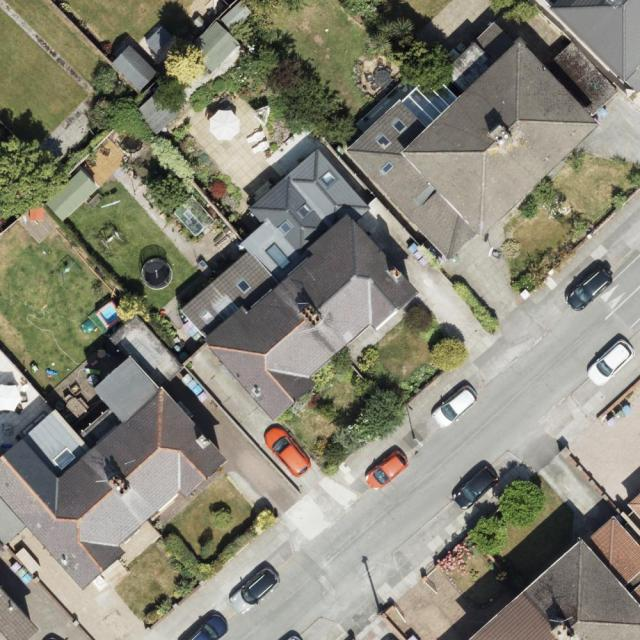roof: (178, 148, 421, 422), (347, 21, 619, 263), (0, 356, 228, 590), (469, 514, 640, 640), (534, 0, 640, 94), (0, 587, 40, 640), (628, 492, 640, 519)
skylight: (401, 72, 458, 128), (263, 241, 293, 272), (54, 448, 77, 471), (374, 133, 393, 152), (390, 117, 408, 136), (296, 202, 314, 220), (277, 218, 295, 235), (236, 277, 252, 295), (200, 309, 216, 326), (381, 160, 396, 175)
